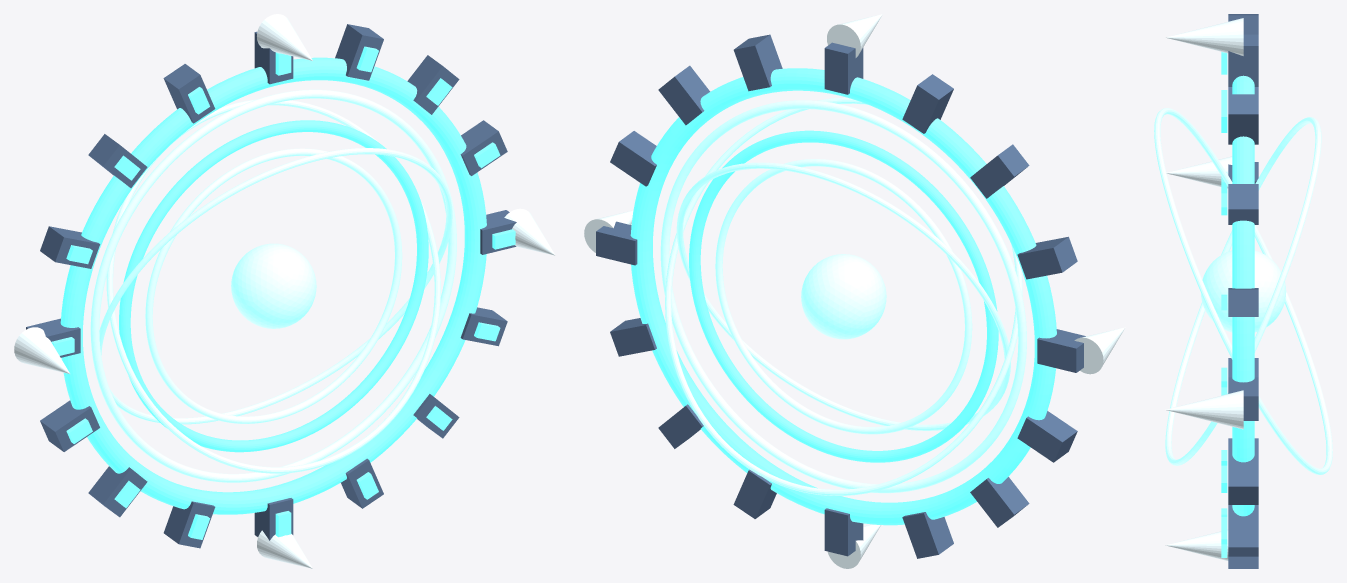
The model's file is portal_astral_aurora.glb.
3 renders of one model, left to right at view 1: azimuth 30°, elevation 25°; view 2: azimuth 150°, elevation 25°; view 3: azimuth 270°, elevation 25°, orthographic.
Parts seen in each view (by area): view 1: ring_0, ring_2, ring_1, ring_3, reactor_core, tilted_rune_ring_1, tilted_rune_ring_0, anchor_3, anchor_0, rune_frame_11, rune_frame_1, rune_frame_15 (+15 smaller); view 2: ring_0, ring_2, ring_1, ring_3, reactor_core, tilted_rune_ring_0, tilted_rune_ring_1, rune_frame_11, rune_frame_1, rune_frame_15, rune_frame_13, rune_frame_10 (+15 smaller); view 3: ring_0, tilted_rune_ring_0, tilted_rune_ring_1, reactor_core, anchor_1, anchor_0, rune_frame_5, rune_frame_1, rune_frame_6, rune_frame_2, rune_frame_0, anchor_2 (+5 smaller).
Boxes of the visible parts, x1,y1,x2,y2 form: ring_0: [60, 57, 486, 514]; ring_2: [119, 120, 428, 452]; ring_1: [90, 89, 456, 482]; ring_3: [145, 148, 402, 423]; reactor_core: [231, 243, 316, 328]; tilted_rune_ring_1: [106, 99, 440, 473]; tilted_rune_ring_0: [99, 148, 452, 424]; anchor_3: [14, 327, 69, 373]; anchor_0: [257, 14, 312, 60]; rune_frame_11: [40, 400, 99, 451]; rune_frame_1: [335, 24, 383, 80]; rune_frame_15: [163, 64, 215, 123]; ring_0: [630, 68, 1056, 525]; ring_2: [689, 130, 998, 462]; ring_1: [660, 100, 1026, 493]; ring_3: [715, 159, 972, 434]; reactor_core: [801, 254, 886, 339]; tilted_rune_ring_0: [665, 97, 1022, 495]; tilted_rune_ring_1: [676, 162, 1010, 430]; rune_frame_11: [1017, 411, 1077, 462]; rune_frame_1: [733, 34, 782, 91]; rune_frame_15: [902, 74, 953, 133]; rune_frame_13: [1017, 236, 1077, 279]; rune_frame_10: [970, 477, 1029, 527]; ring_0: [1232, 75, 1254, 516]; tilted_rune_ring_0: [1154, 108, 1332, 474]; tilted_rune_ring_1: [1165, 117, 1321, 465]; reactor_core: [1201, 250, 1286, 332]; anchor_1: [1165, 390, 1243, 429]; anchor_0: [1165, 18, 1243, 55]; rune_frame_5: [1228, 453, 1258, 504]; rune_frame_1: [1228, 94, 1258, 144]; rune_frame_6: [1228, 505, 1258, 556]; rune_frame_2: [1228, 184, 1258, 224]; rune_frame_0: [1228, 34, 1258, 86]; anchor_2: [1165, 529, 1228, 560].
Bounding box in the file's own units: 12.2 × 12.2 × 3.64.
